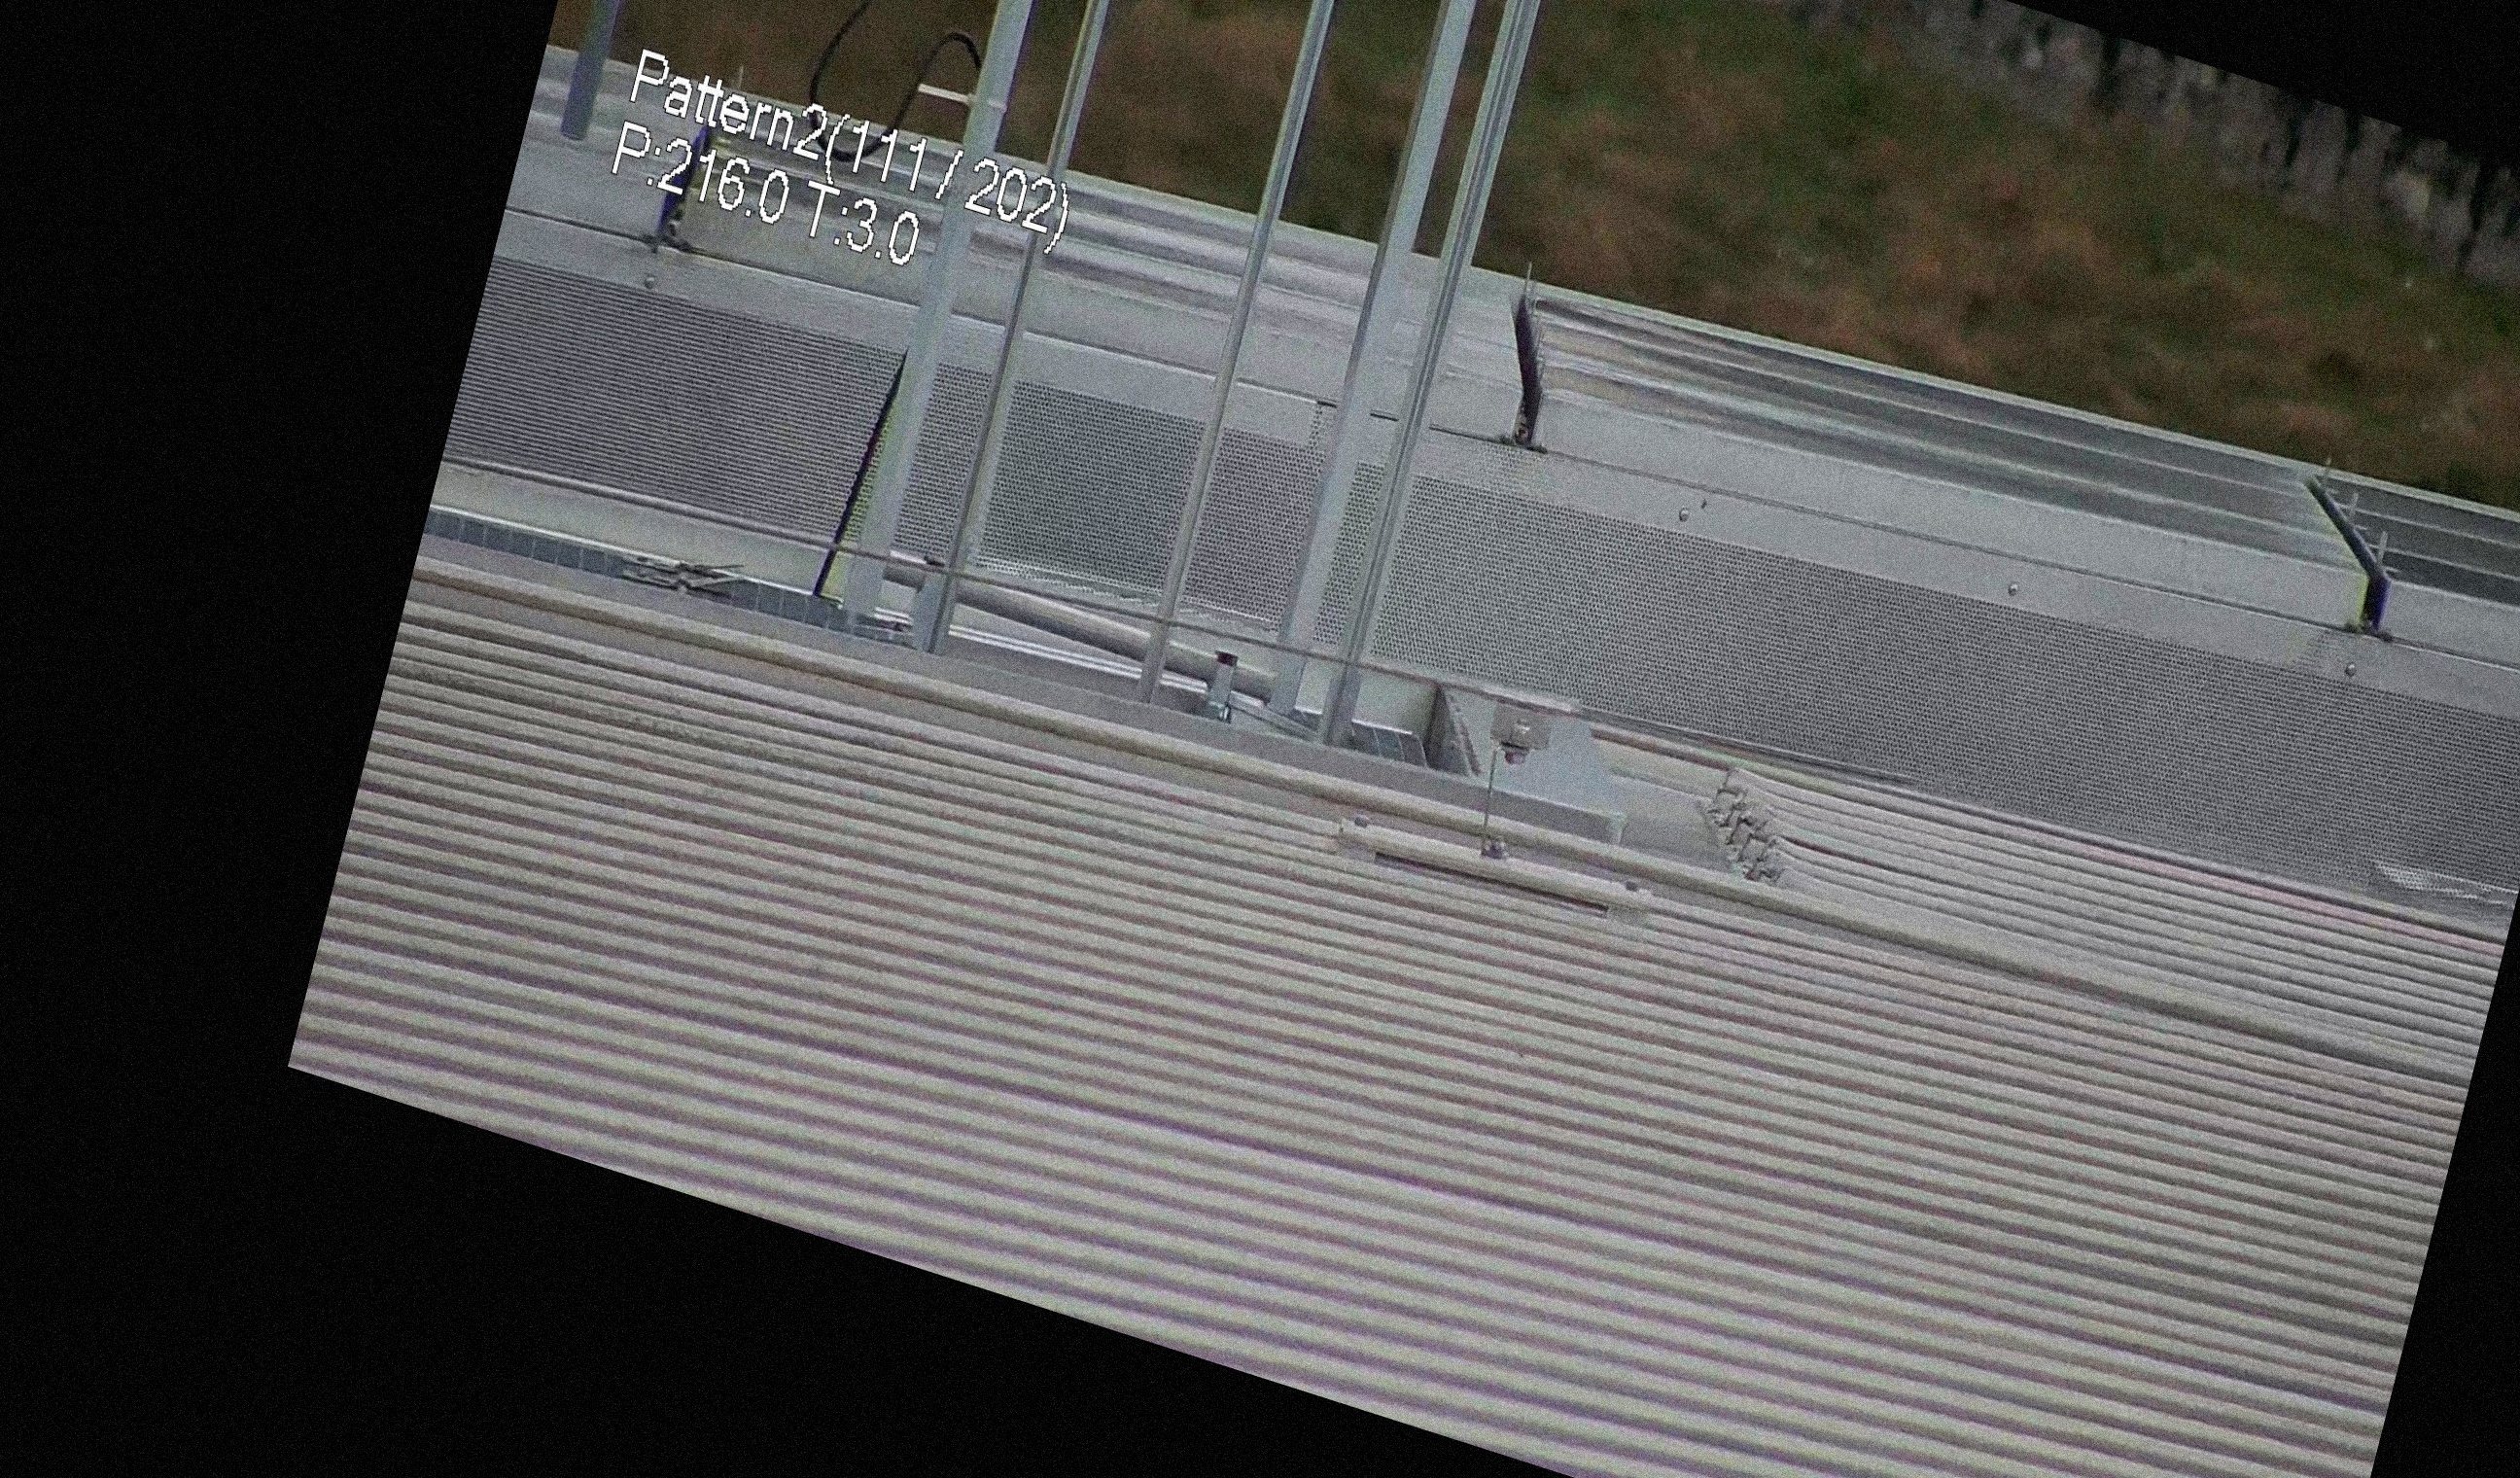Other: (1458, 260, 1590, 470)
